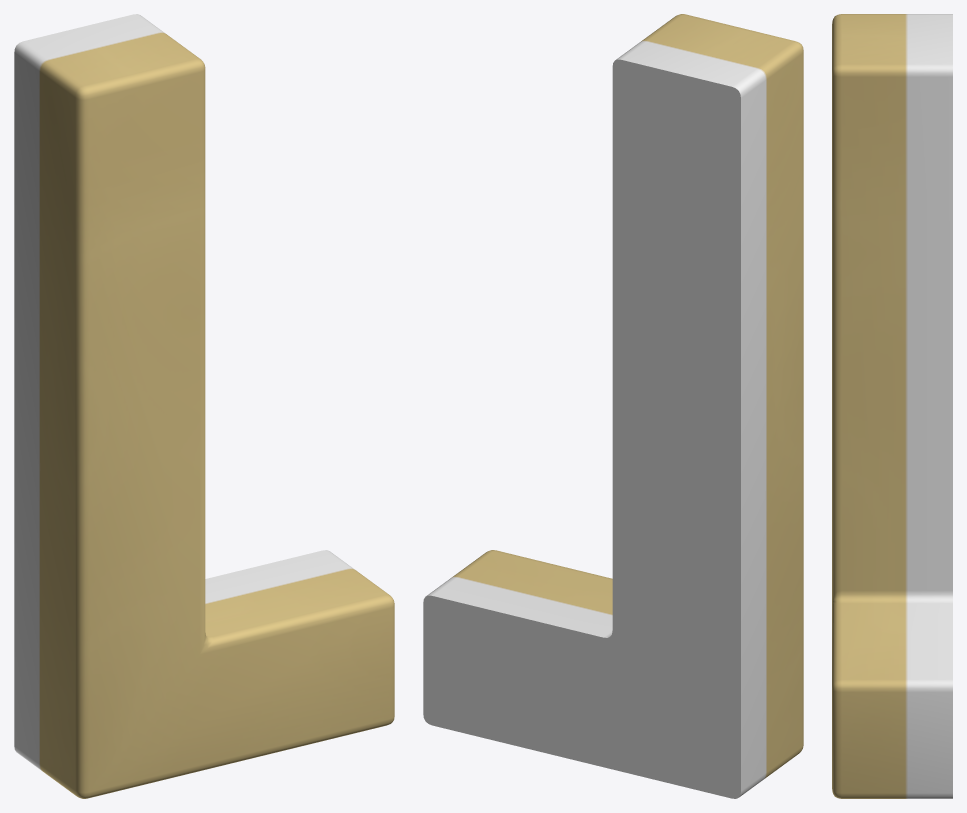
File: LettersLightUp01_L.FBX
3 renders of one model, left to right at view 1: azimuth 30°, elevation 25°; view 2: azimuth 150°, elevation 25°; view 3: azimuth 270°, elevation 25°, orthographic. The views are drawn at different scales.
Parts seen in each view (by area): view 1: LettersLightUp01_L; view 2: LettersLightUp01_L; view 3: LettersLightUp01_L.
Boxes of the visible parts, left/top/right/bottom form: LettersLightUp01_L: left=14, top=14, right=394, bottom=798; LettersLightUp01_L: left=423, top=14, right=803, bottom=798; LettersLightUp01_L: left=832, top=14, right=952, bottom=798.
Size of what is drawn, in the model's own units: 0.2803 by 0.6001 by 0.1012.
